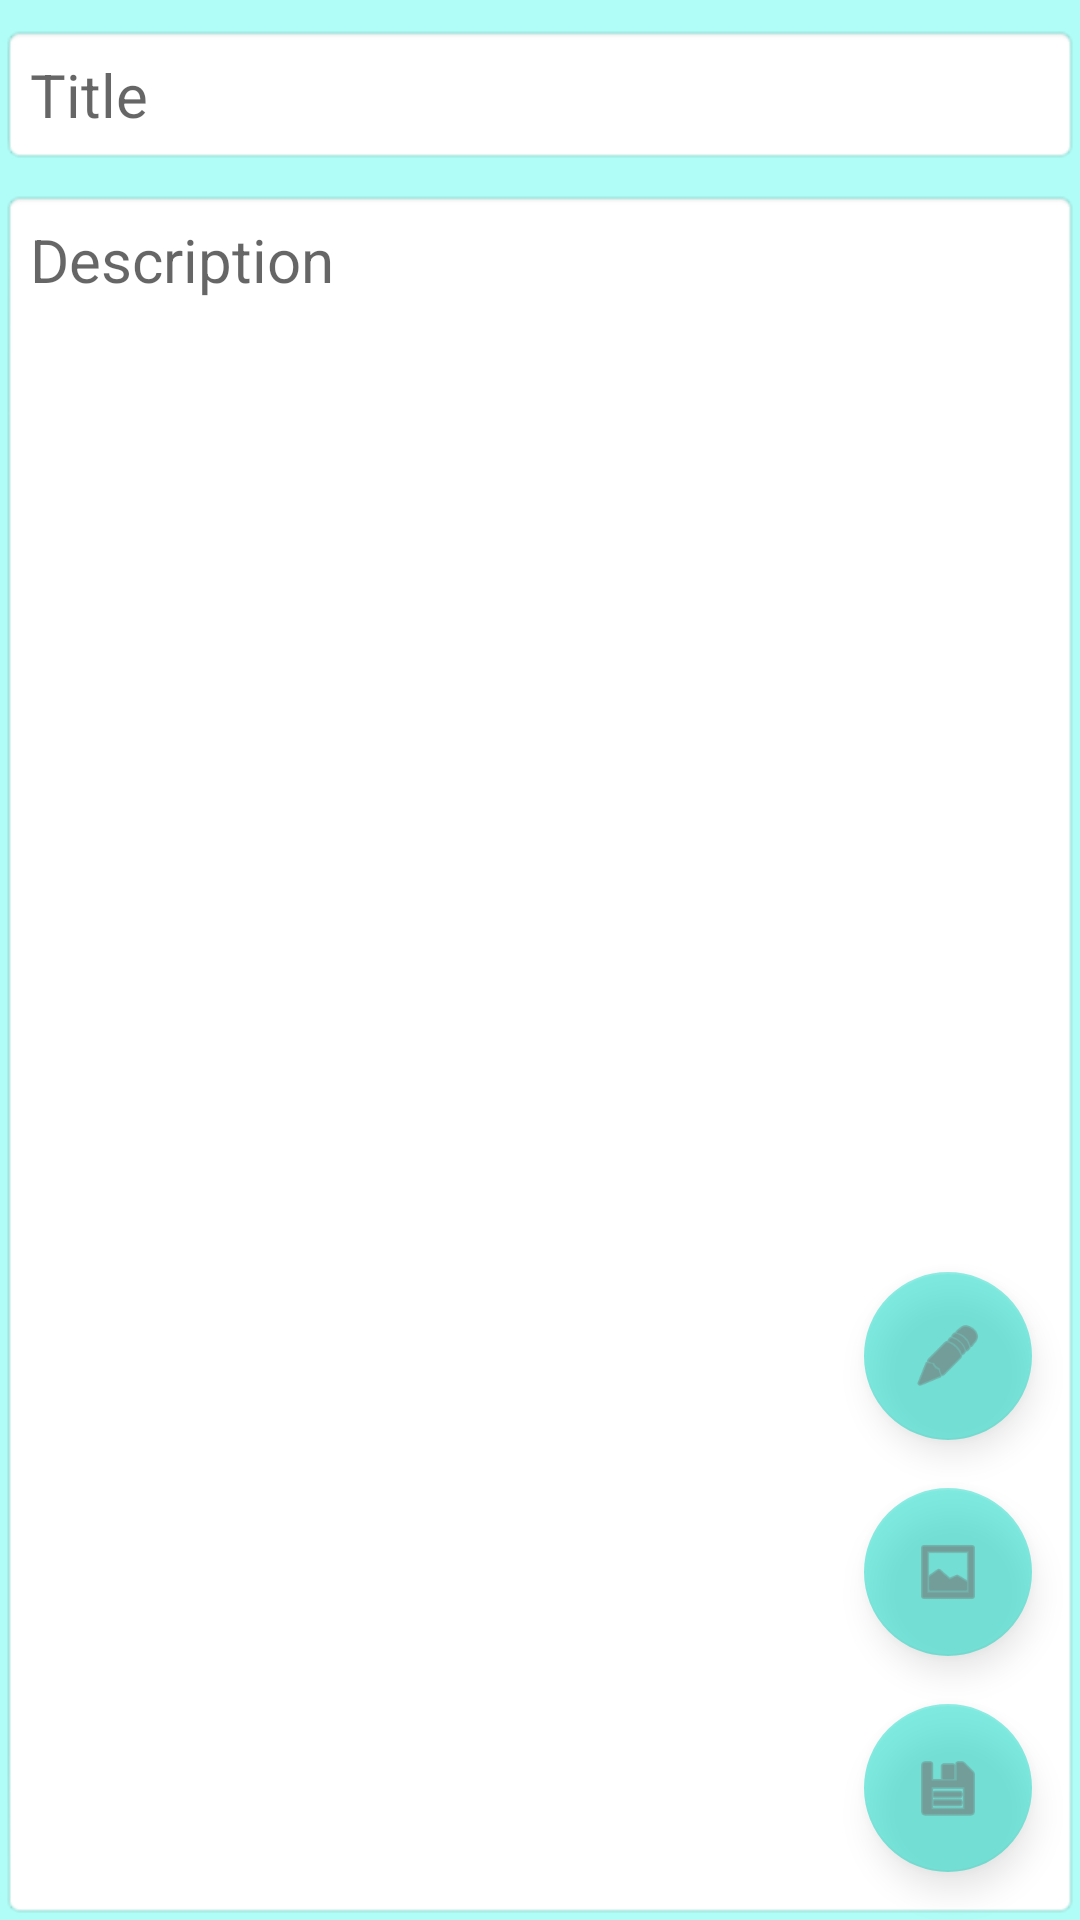

Locate icon controls on the screen. Image size 1080px x 1920px, boxes as (x1, y1, x2, y2).
edit: (864, 1272, 1032, 1440)
gallery: (864, 1488, 1032, 1656)
save: (864, 1704, 1032, 1872)
